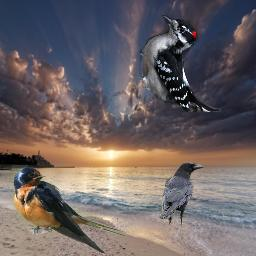Crow: (158, 162, 204, 227)
Swallow: (12, 165, 127, 253)
Woodpecker: (139, 15, 221, 112)
